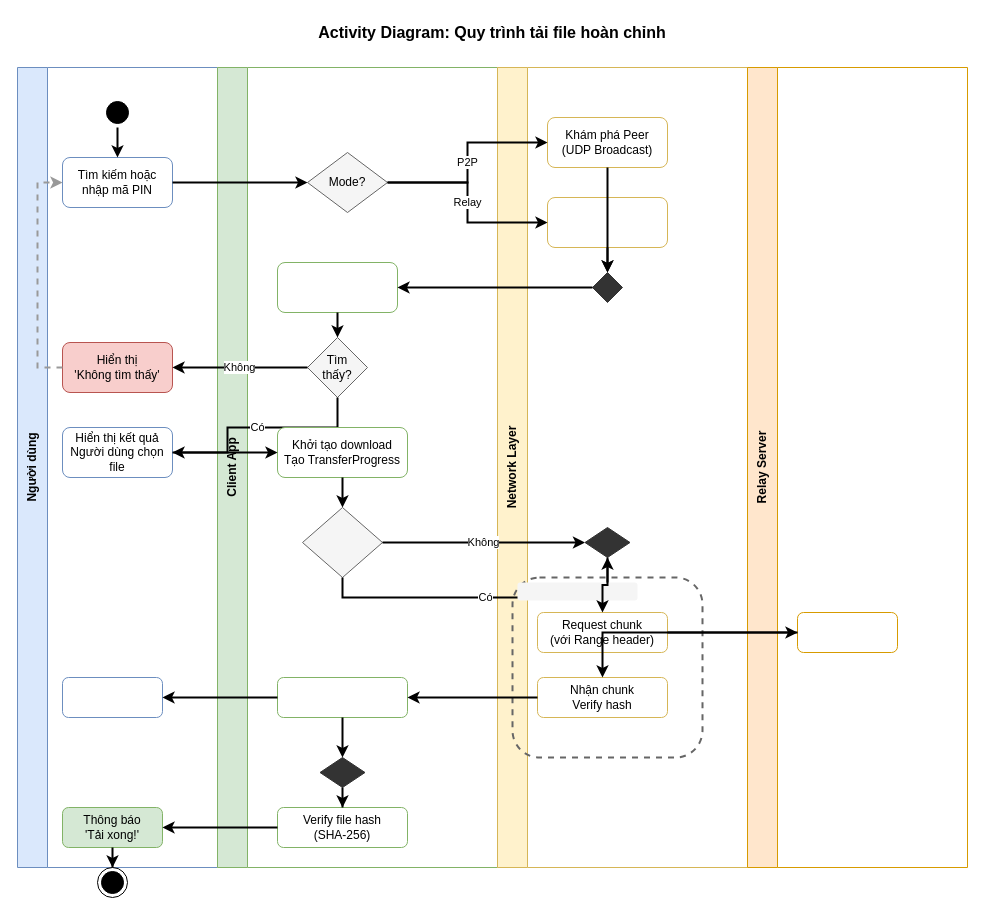
Some shapes in this 985 by 915 pixel diagram are drawn without their labels. The box of each missing label's shape, as (x1, y1, x2, y2) in pixels:
Cập nhật progress Ghi chunk vào file: (276, 676, 408, 718)
Hiển thị tiến trình %: (62, 676, 162, 718)
Kết nối Relay Server: (546, 196, 668, 248)
loop [for each chunk]: (517, 582, 637, 600)
Resume từ chunk trước?: (302, 506, 382, 578)
Tìm kiếm file theo query/PIN: (276, 262, 398, 312)
Đọc file Gửi chunk: (796, 612, 898, 652)
